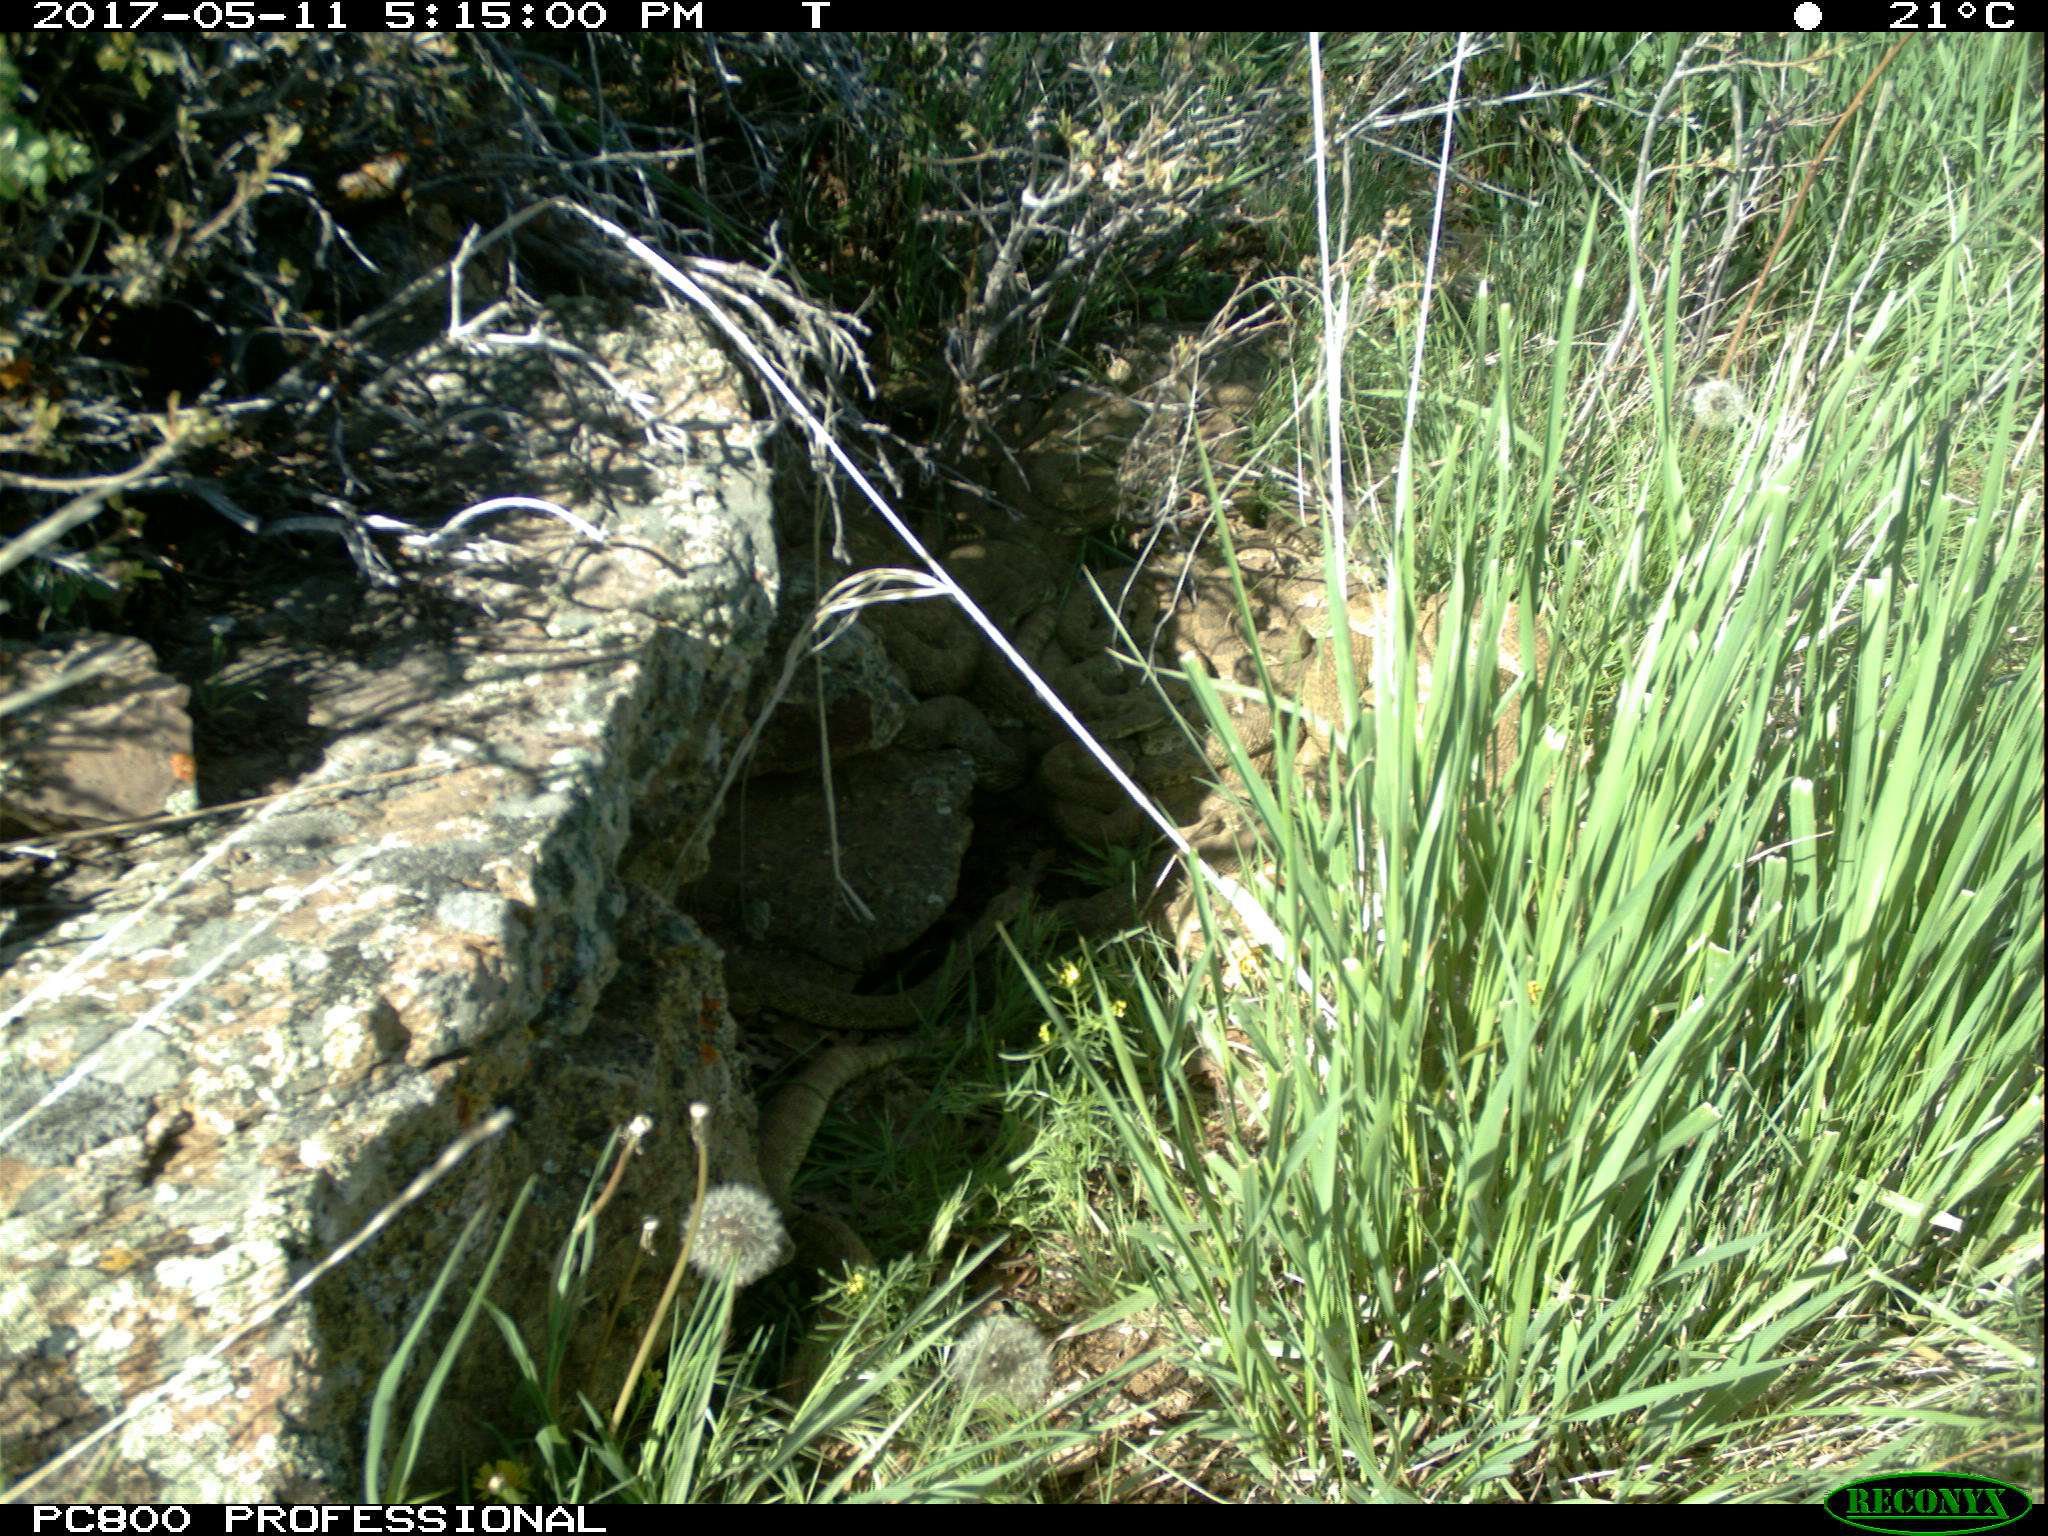snake: (724, 881, 1043, 1033), (1008, 578, 1317, 712), (1393, 581, 1572, 807), (872, 545, 1061, 718), (758, 1039, 951, 1200), (785, 1202, 884, 1352), (1032, 733, 1163, 845)
